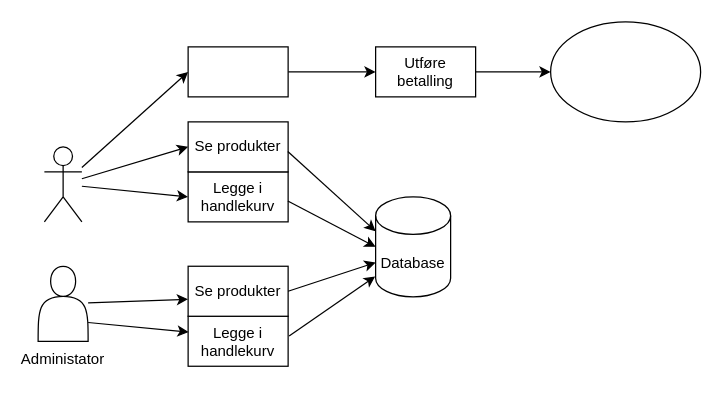
This 723x413 diagram has some shape labels left out. Each missing label, with the centre of its shape:
Betallings system f.eks. Vipps eller Paypal: the point at 625,71
Gjennomføre Bestilling: the point at 237,71
Kunde: the point at 62,184
